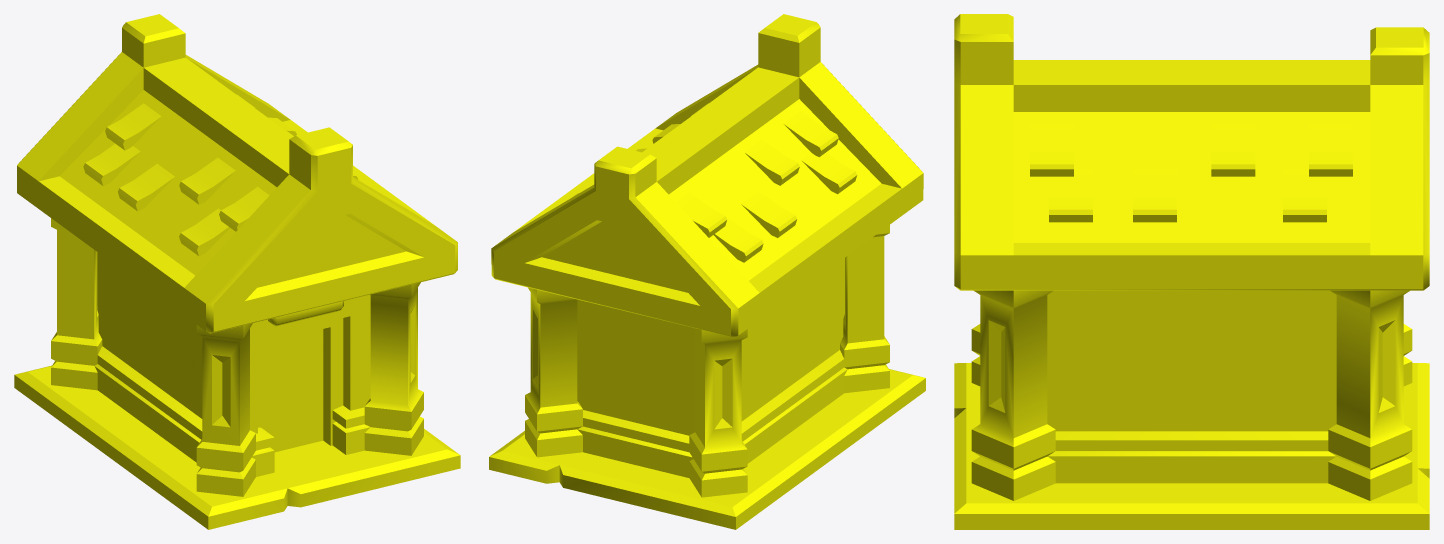
File: kaykit-crypt.glb
The picture shows the model from 3 angles, left to right: view 1: azimuth 30°, elevation 25°; view 2: azimuth 150°, elevation 25°; view 3: azimuth 270°, elevation 25°; orthographic projection. The views are drawn at different scales.
Parts seen in each view (by area): view 1: crypt; view 2: crypt; view 3: crypt.
Part boxes in pixels (x1,y1,x2,y2): crypt: [14, 14, 460, 529]; crypt: [489, 14, 925, 529]; crypt: [954, 14, 1429, 529].
Size of the model in its own units: 6 by 8 by 8.
